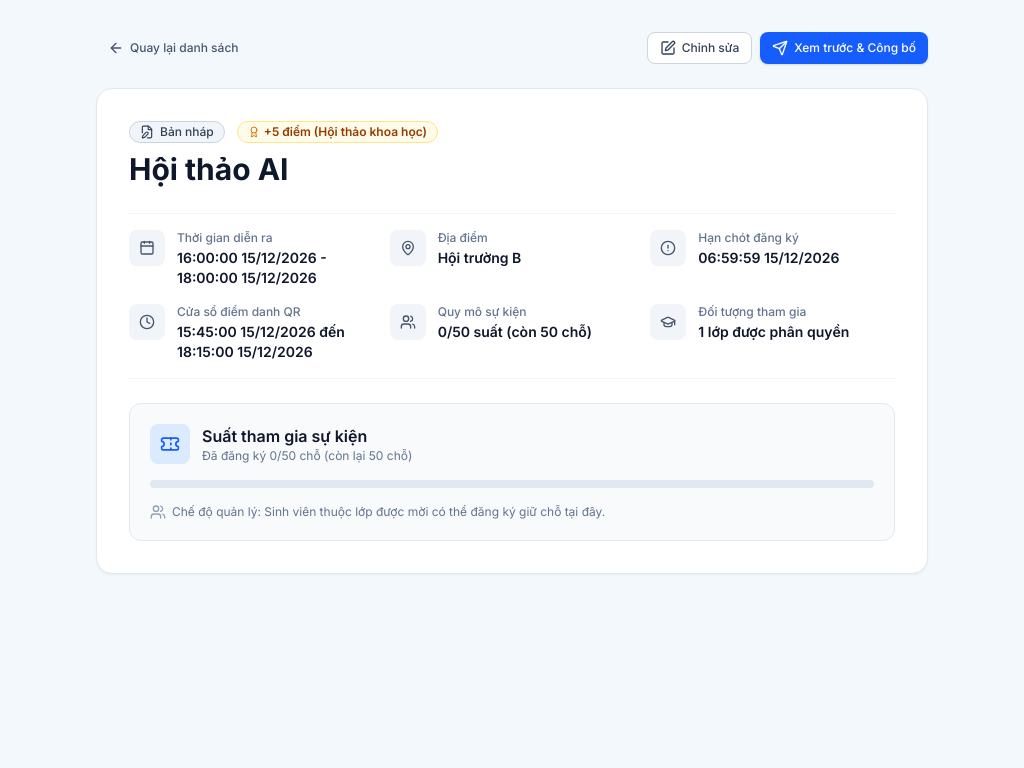
EventDetailPage publish flow [QE-65] › shows the preview error in a banner and does not offer to confirm the publish
The image size is (1024, 768).
Click the button "Xem trước & Công bố" at (844, 48), box [760,32,928,64]
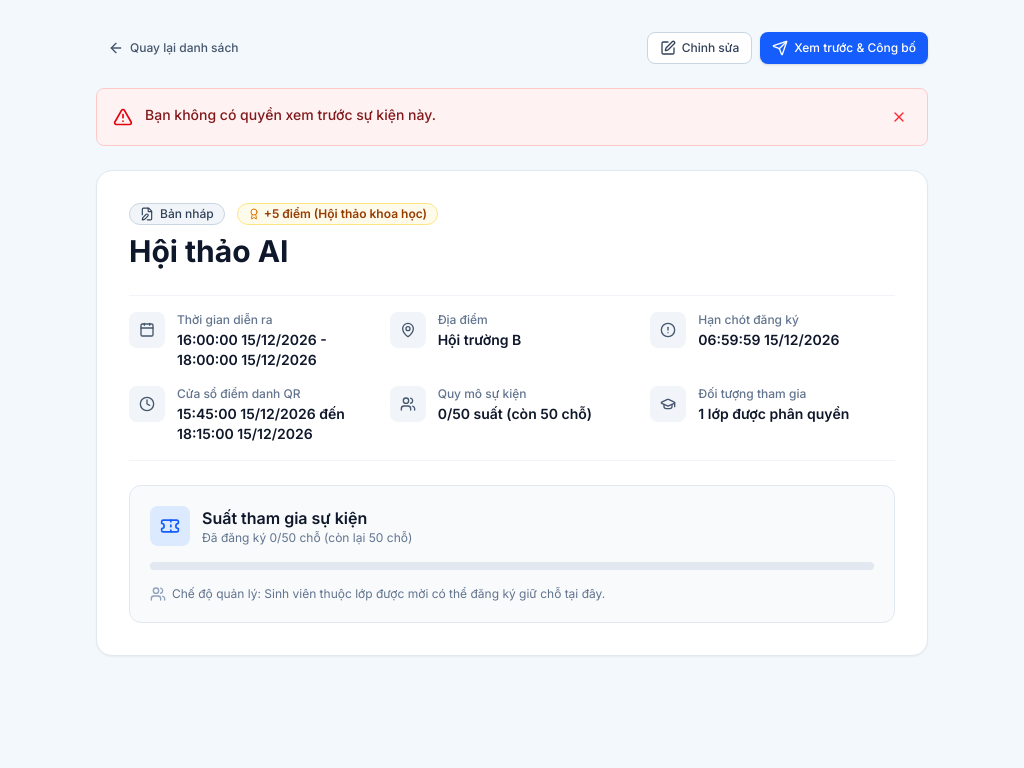
Now the message reads "Bạn không có quyền xem trước sự kiện này.", box [145,106,436,123]
